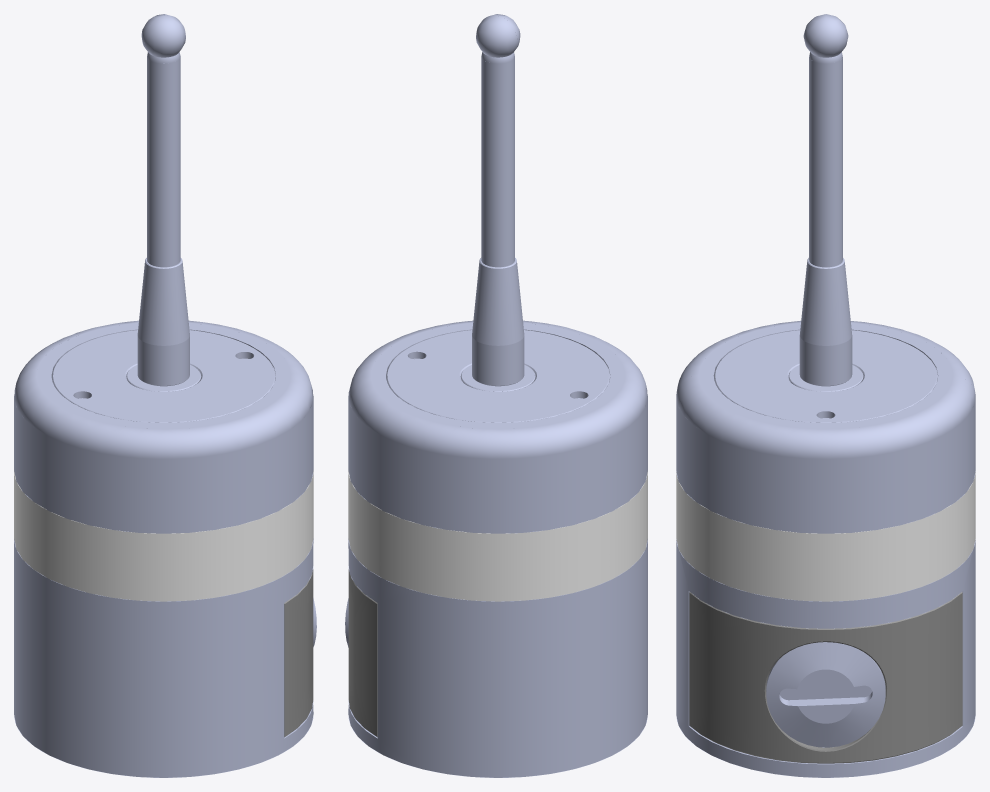
Rendered from Renishaw OMP 40-2.glb.
The picture shows the model from 3 angles, left to right: view 1: azimuth 30°, elevation 25°; view 2: azimuth 150°, elevation 25°; view 3: azimuth 270°, elevation 25°; orthographic projection.
Visible parts, largest first — view 1: Renishaw OMP 40-2.IGS (×9); view 2: Renishaw OMP 40-2.IGS (×9); view 3: Renishaw OMP 40-2.IGS (×10).
Part boxes in pixels (bbox=[...]): Renishaw OMP 40-2.IGS (×9): bbox=[14, 14, 313, 777]; Renishaw OMP 40-2.IGS (×9): bbox=[348, 14, 647, 777]; Renishaw OMP 40-2.IGS (×10): bbox=[676, 14, 975, 777].
Bounding box in the file's own units: 0.04 × 0.103 × 0.04.
